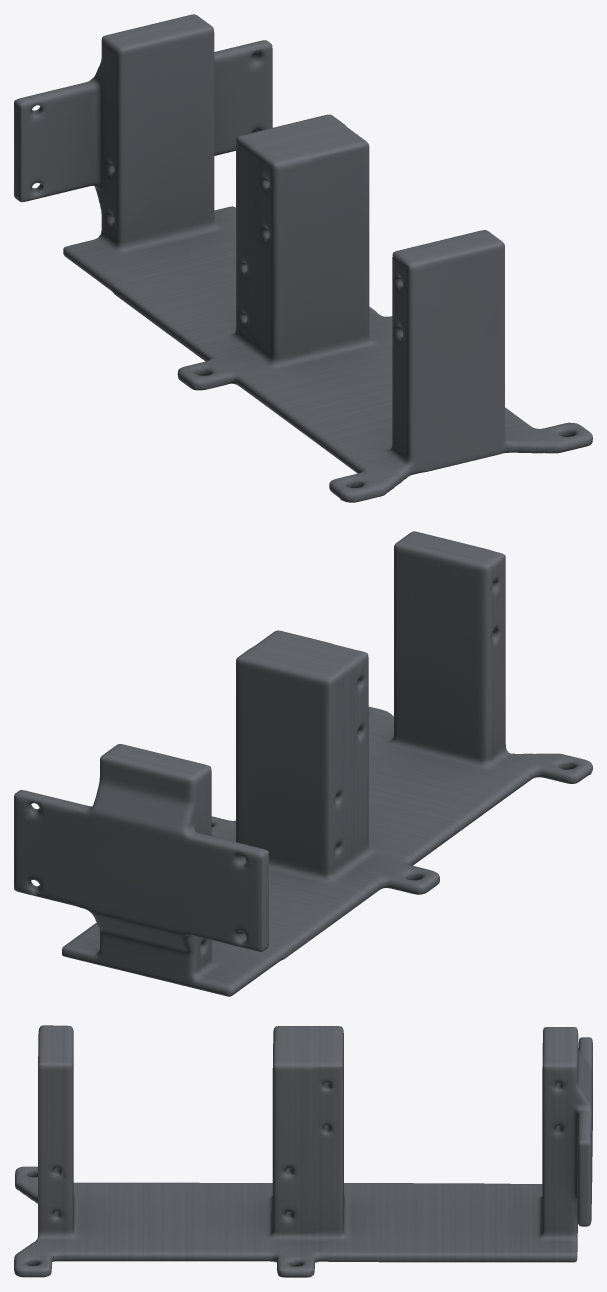
Rendered from Left_forarm_internal_support.obj.
3 renders of one model, top to bottom at view 1: azimuth 30°, elevation 25°; view 2: azimuth 150°, elevation 25°; view 3: azimuth 270°, elevation 25°, orthographic. The views are drawn at different scales.
Parts seen in each view (by area): view 1: Left_forarm_internal_support; view 2: Left_forarm_internal_support; view 3: Left_forarm_internal_support.
Boxes of the visible parts, x1,y1,x2,y2 form: Left_forarm_internal_support: (14, 14, 592, 502); Left_forarm_internal_support: (14, 531, 592, 996); Left_forarm_internal_support: (14, 1025, 592, 1277).
Size of the model in its own units: 0.0443 by 0.0352 by 0.1015.
1 material, 1 textured.
